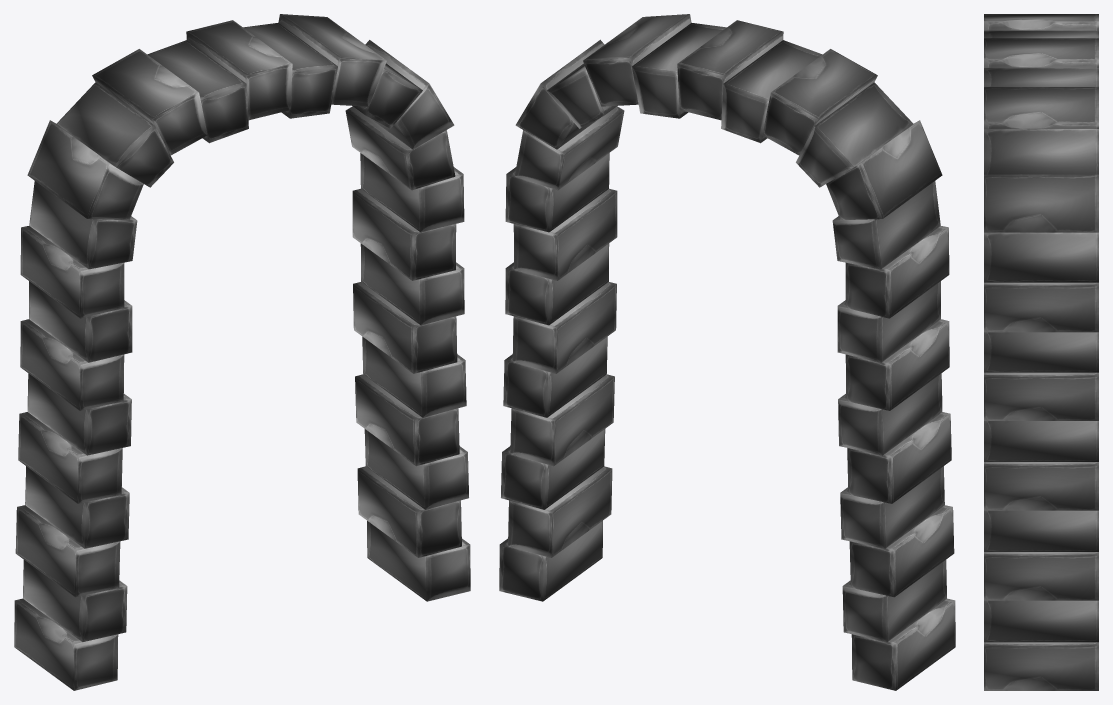
The model's file is arch_2.fbx.
3 renders of one model, left to right at view 1: azimuth 30°, elevation 25°; view 2: azimuth 150°, elevation 25°; view 3: azimuth 270°, elevation 25°, orthographic. The views are drawn at different scales.
Visible parts, largest first — view 1: arch_2; view 2: arch_2; view 3: arch_2.
Part boxes in pixels (box(x1,y1,x2,y2)): arch_2: box(14, 14, 470, 690); arch_2: box(499, 14, 955, 690); arch_2: box(984, 14, 1098, 690).
Size of the model in its own units: 4.05 by 5.59 by 1.06.
